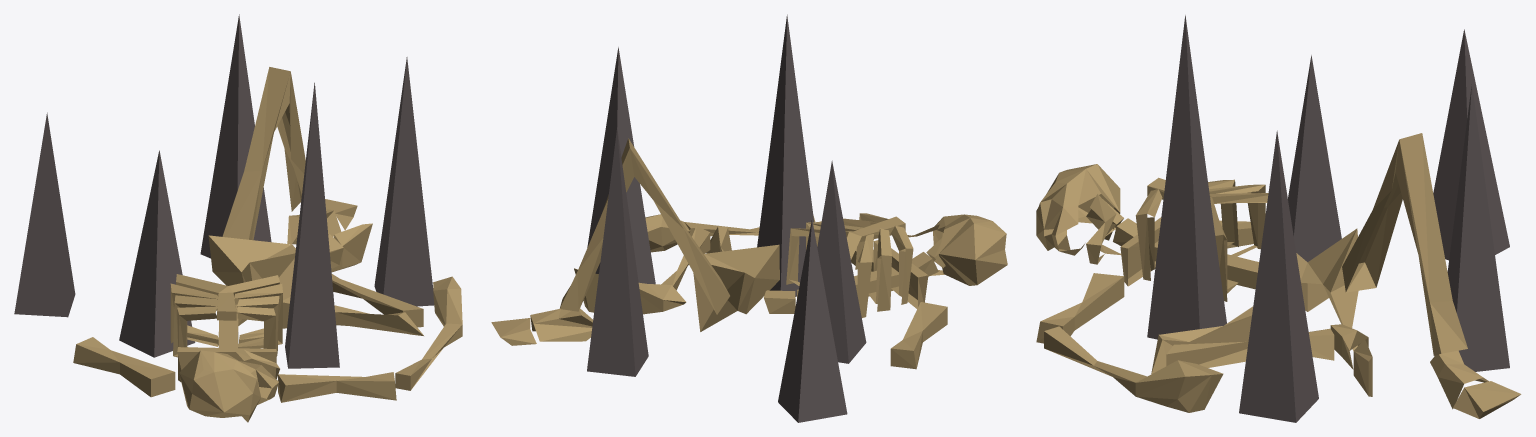
The picture shows the model from 3 angles, left to right: view 1: azimuth 30°, elevation 25°; view 2: azimuth 150°, elevation 25°; view 3: azimuth 270°, elevation 25°; orthographic projection. The views are drawn at different scales.
Bounding box in the file's own units: 0.9766 × 0.7188 × 0.9922.
